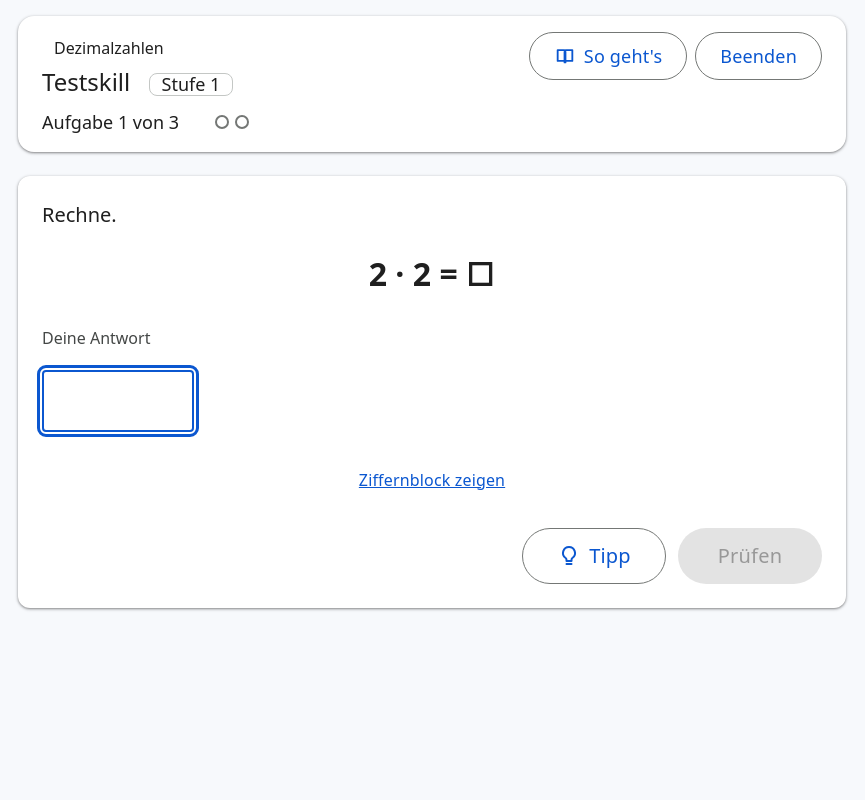
PracticePage: consent, round end, breaks › asks for storage consent inline after the first finished item
Expected: the button "Prüfen" is shown, left=678, top=528, right=822, bottom=584
Expected: the text "Soll die Seite deinen Fortschritt auf diesem Gerät speichern?" is not shown
Type "4" into the field labelled "Deine Antwort".
click(118, 401); type("4")  # box left=42, top=370, right=194, bottom=432
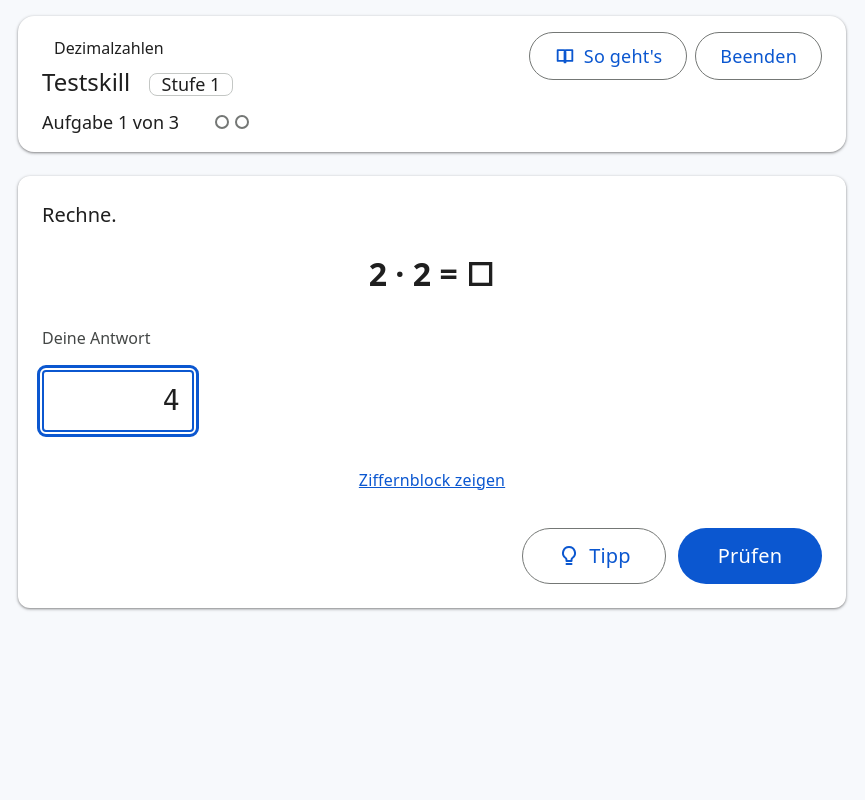
Click the button "Prüfen".
click(750, 556)  # box left=678, top=528, right=822, bottom=584
(page scrolled)
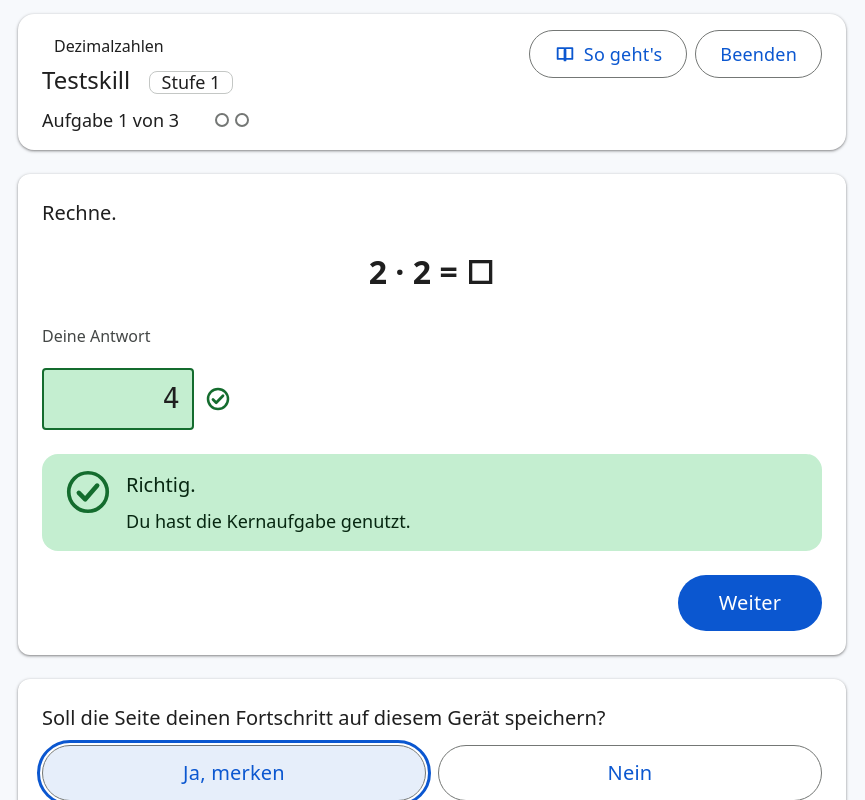
Now the text "Soll die Seite deinen Fortschritt auf diesem Gerät speichern?" is shown, box left=42, top=704, right=606, bottom=731
Click the button "Ja, merken".
click(234, 773)  # box left=42, top=745, right=426, bottom=799
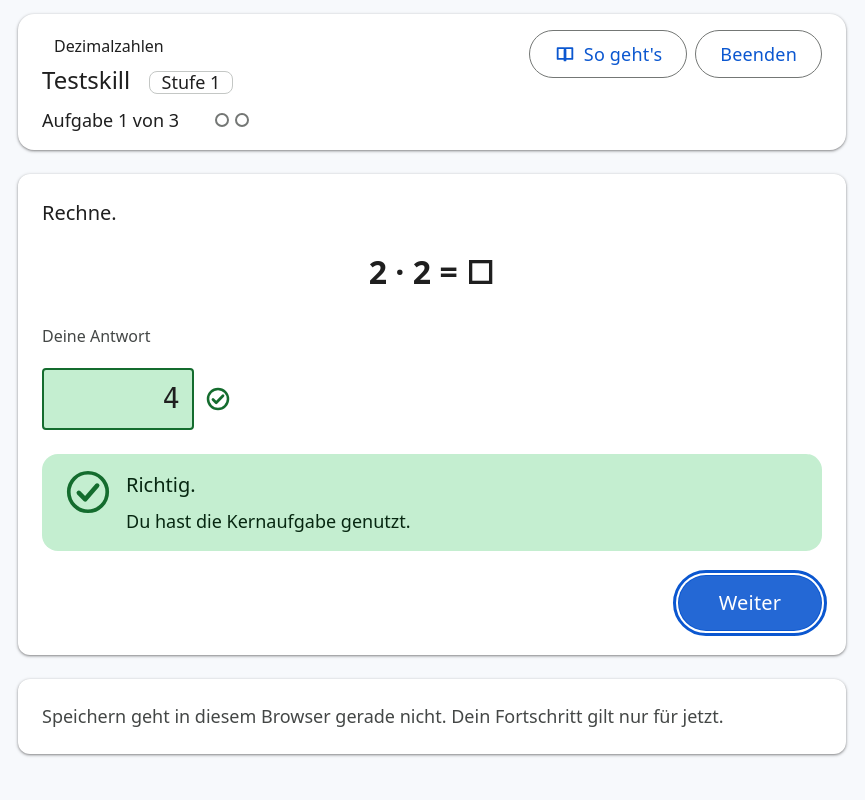
Now the button "Ja, merken" is gone
